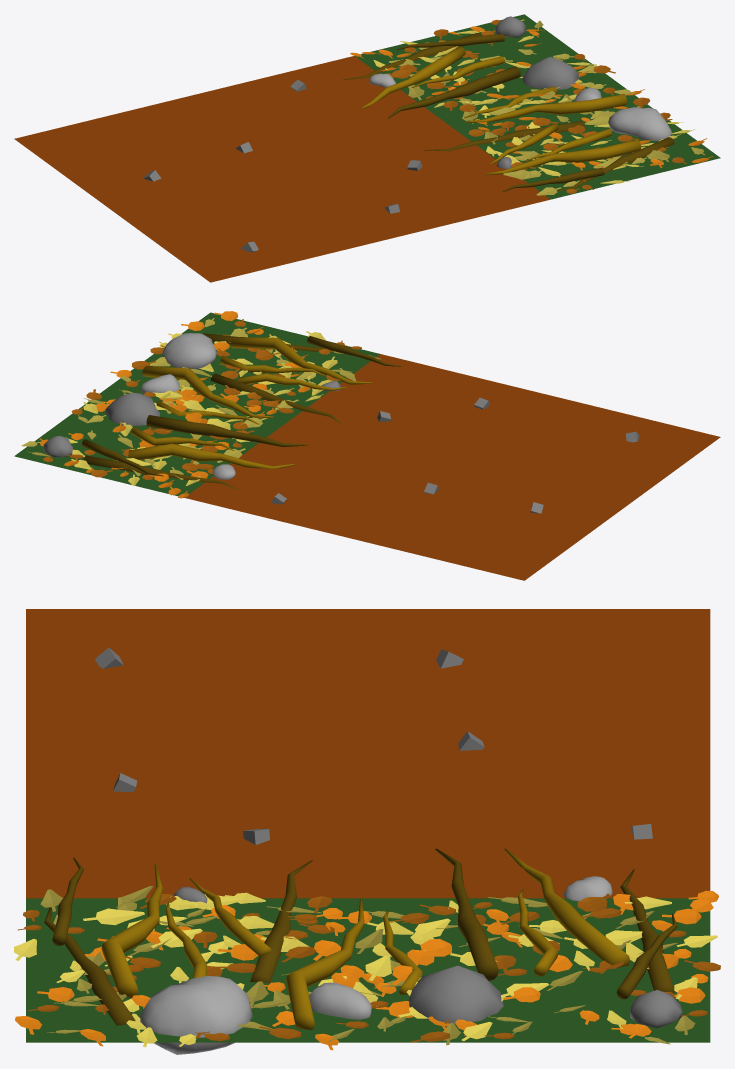
File: sol map sombreD3.fbx
The picture shows the model from 3 angles, top to bottom: view 1: azimuth 30°, elevation 25°; view 2: azimuth 150°, elevation 25°; view 3: azimuth 270°, elevation 25°; orthographic projection. The views are drawn at different scales.
Visible parts, largest first — view 1: sol sombre droite3; view 2: sol sombre droite3; view 3: sol sombre droite3.
Boxes of the visible parts, x1=… form: sol sombre droite3: x1=14, y1=14, x2=720, y2=282; sol sombre droite3: x1=14, y1=311, x2=720, y2=580; sol sombre droite3: x1=14, y1=609, x2=720, y2=1054.
Size of the model in its own units: 307 by 19.88 by 207.
